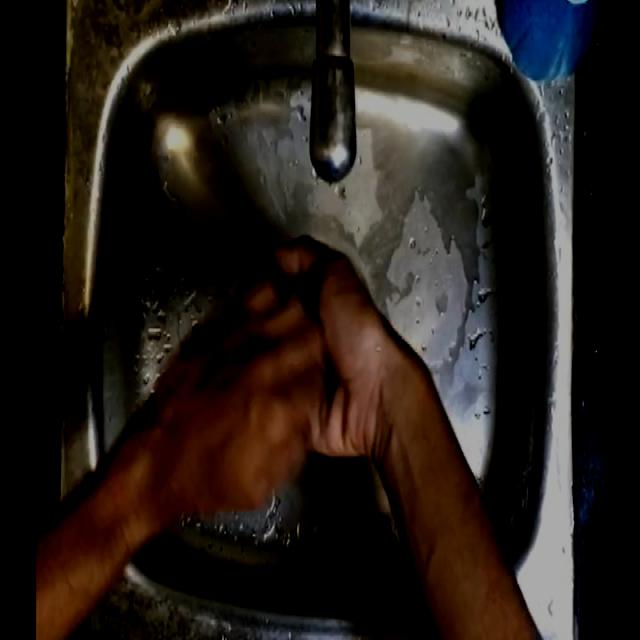step_4: (136, 235, 398, 523)
